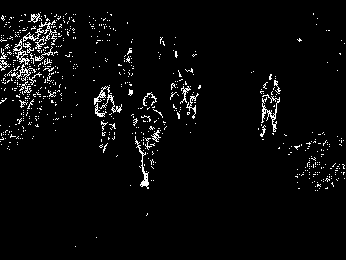person: (131, 91, 167, 189), (92, 85, 122, 152), (259, 71, 281, 140), (169, 67, 188, 120)
